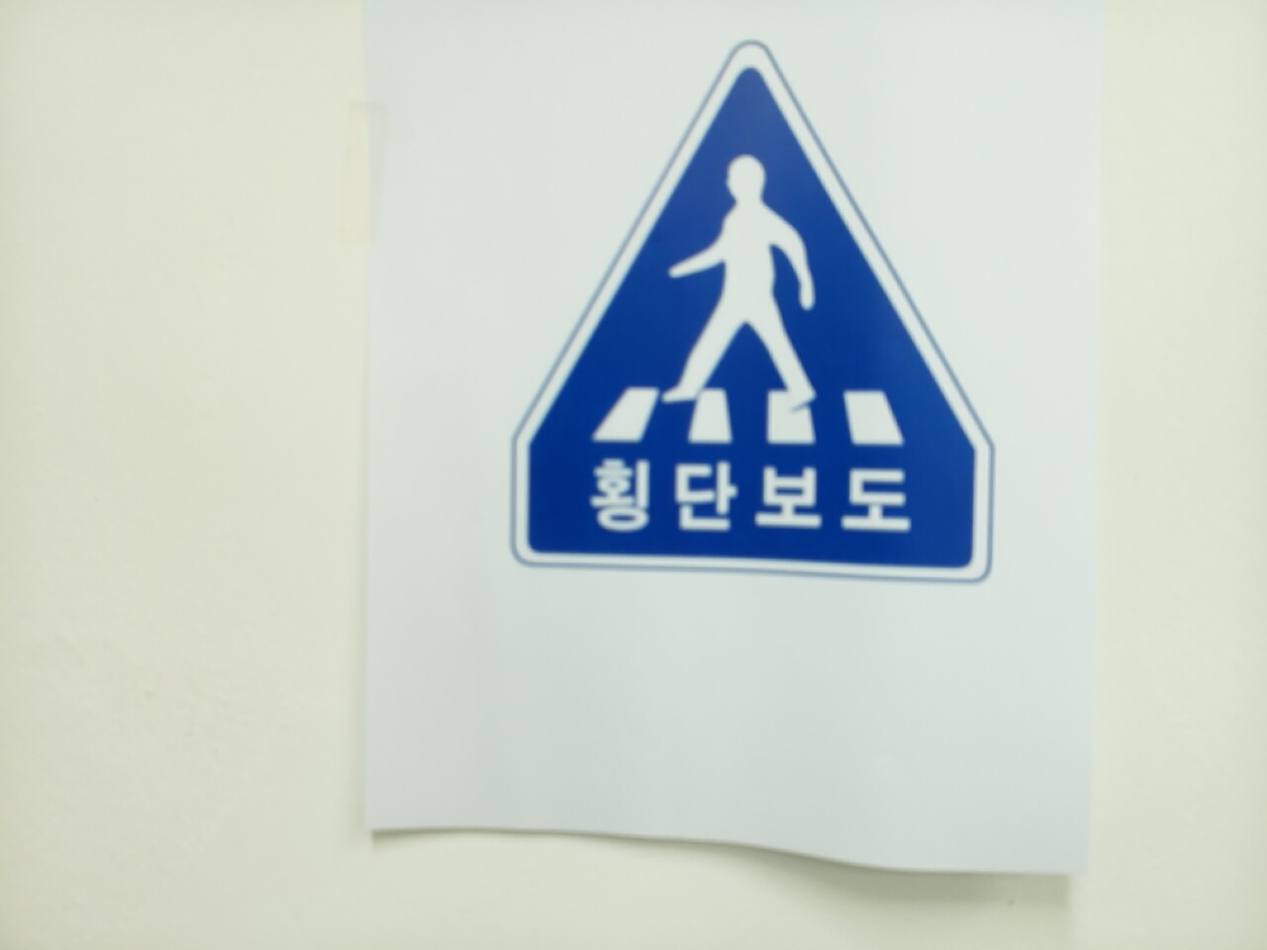crosswalk: (515, 53, 988, 582)
